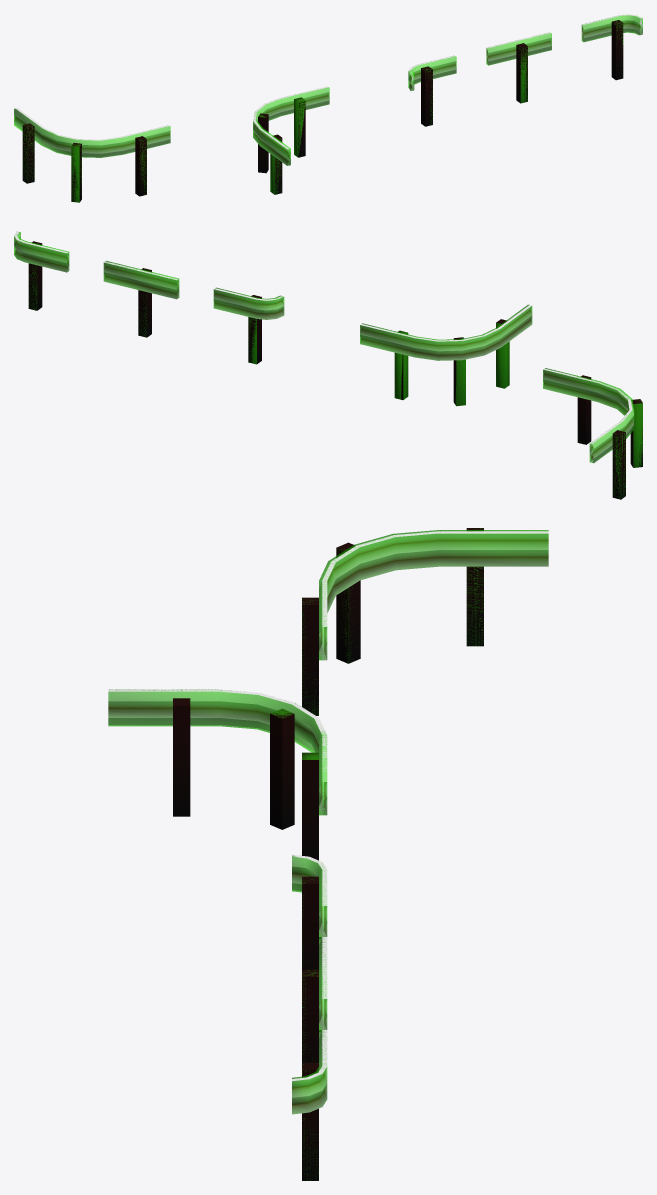
Rendered from railing_floor_set.fbx.
3 renders of one model, top to bottom at view 1: azimuth 30°, elevation 25°; view 2: azimuth 150°, elevation 25°; view 3: azimuth 270°, elevation 25°, orthographic. The views are drawn at different scales.
Parts seen in each view (by area): view 1: railing_floor_cornerIn, railing_floor_cornerOut, railing_floor_cornerInCOL, railing_floor_cornerOutCOL, railing_floor_mid, railing_floor_endLeft, railing_floor_endRight, railing_floor_midCOL, railing_floor_endLeftCOL, railing_floor_endRightCOL; view 2: railing_floor_cornerOut, railing_floor_cornerOutCOL, railing_floor_cornerIn, railing_floor_cornerInCOL, railing_floor_mid, railing_floor_endRight, railing_floor_endLeft, railing_floor_endRightCOL, railing_floor_midCOL, railing_floor_endLeftCOL; view 3: railing_floor_cornerIn, railing_floor_cornerOut, railing_floor_cornerInCOL, railing_floor_cornerOutCOL, railing_floor_endLeft, railing_floor_endRight, railing_floor_mid, railing_floor_endLeftCOL, railing_floor_endRightCOL.
Part boxes in pixels (x1,y1,x2,y2): railing_floor_cornerIn: (14, 108, 170, 202); railing_floor_cornerOut: (253, 86, 329, 194); railing_floor_cornerInCOL: (14, 108, 170, 202); railing_floor_cornerOutCOL: (253, 87, 329, 194); railing_floor_mid: (486, 32, 551, 103); railing_floor_endLeft: (581, 14, 642, 80); railing_floor_endRight: (408, 55, 456, 126); railing_floor_midCOL: (486, 33, 551, 103); railing_floor_endLeftCOL: (581, 15, 642, 65); railing_floor_endRightCOL: (408, 56, 456, 122); railing_floor_cornerOut: (360, 305, 532, 405); railing_floor_cornerOutCOL: (360, 304, 532, 405); railing_floor_cornerIn: (543, 368, 642, 499); railing_floor_cornerInCOL: (543, 368, 642, 498); railing_floor_mid: (104, 261, 179, 337); railing_floor_endRight: (213, 288, 284, 364); railing_floor_endLeft: (14, 231, 69, 310); railing_floor_endRightCOL: (213, 287, 284, 364); railing_floor_midCOL: (103, 260, 179, 337); railing_floor_endLeftCOL: (14, 232, 69, 309); railing_floor_cornerIn: (302, 528, 548, 715); railing_floor_cornerOut: (108, 689, 327, 860); railing_floor_cornerInCOL: (302, 528, 548, 715); railing_floor_cornerOutCOL: (108, 689, 327, 815); railing_floor_endLeft: (292, 1030, 327, 1180); railing_floor_endRight: (292, 854, 327, 969); railing_floor_mid: (302, 937, 327, 1062); railing_floor_endLeftCOL: (292, 1030, 327, 1180); railing_floor_endRightCOL: (292, 855, 327, 949).
Size of the model in its own units: 18.02 by 1.75 by 6.
